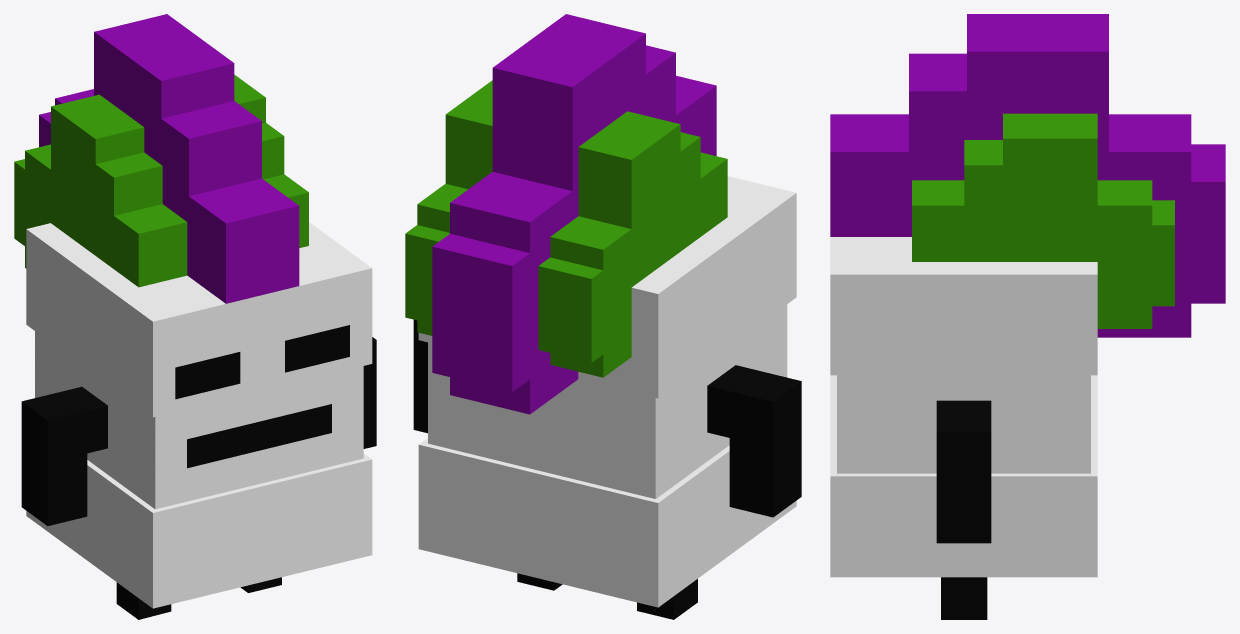
The model's file is character_marsh_2.fbx.
The picture shows the model from 3 angles, left to right: view 1: azimuth 30°, elevation 25°; view 2: azimuth 150°, elevation 25°; view 3: azimuth 270°, elevation 25°; orthographic projection. The views are drawn at different scales.
Parts seen in each view (by area): view 1: marsh_perso_002; view 2: marsh_perso_002; view 3: marsh_perso_002.
Boxes of the visible parts, x1,y1,x2,y2 form: marsh_perso_002: (14,14,376,619); marsh_perso_002: (405,14,801,619); marsh_perso_002: (830,14,1225,619).
Size of the model in its own units: 30.01 by 45.42 by 29.56.
